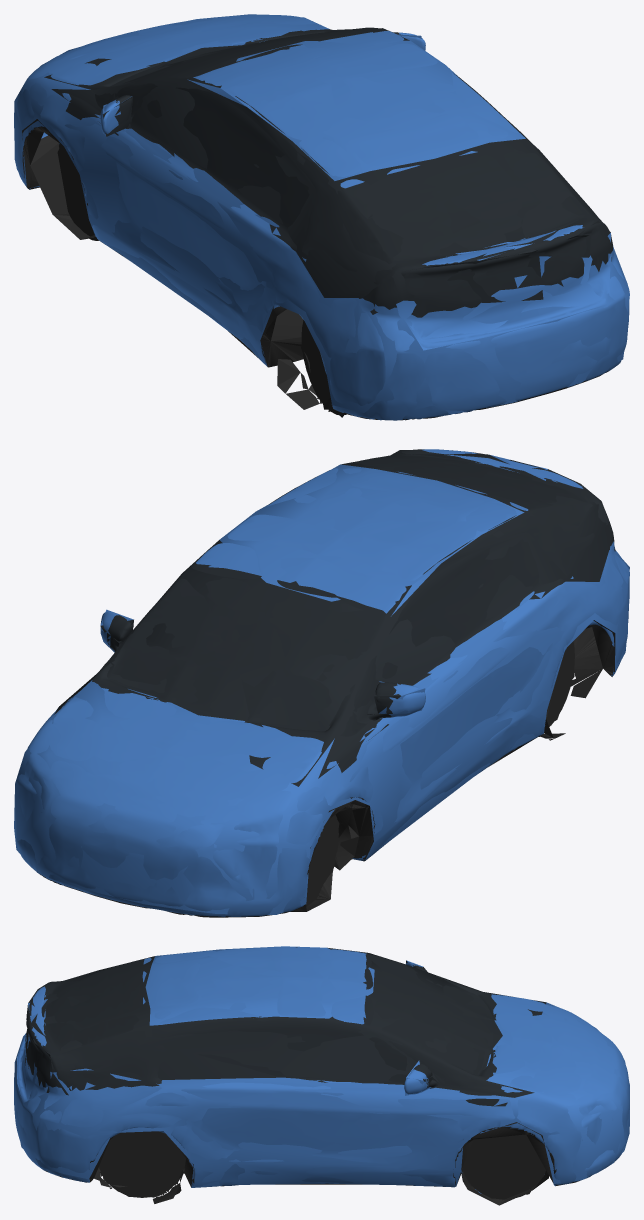
File: hyundai-ioniq.glb
3 views of the same model, one above another, from view 1: azimuth 30°, elevation 25°; view 2: azimuth 150°, elevation 25°; view 3: azimuth 270°, elevation 25° (orthographic). The views are drawn at different scales.
Visible parts, largest first — view 1: body, far; view 2: body, far; view 3: body, far.
Boxes of the visible parts, <box> form: body: <box>14,14,629,420</box>; far: <box>14,14,629,420</box>; body: <box>15,449,629,917</box>; far: <box>14,450,629,914</box>; body: <box>14,947,629,1205</box>; far: <box>14,946,629,1198</box>.
Size of the model in its own units: 2.07 by 1.48 by 4.51.
